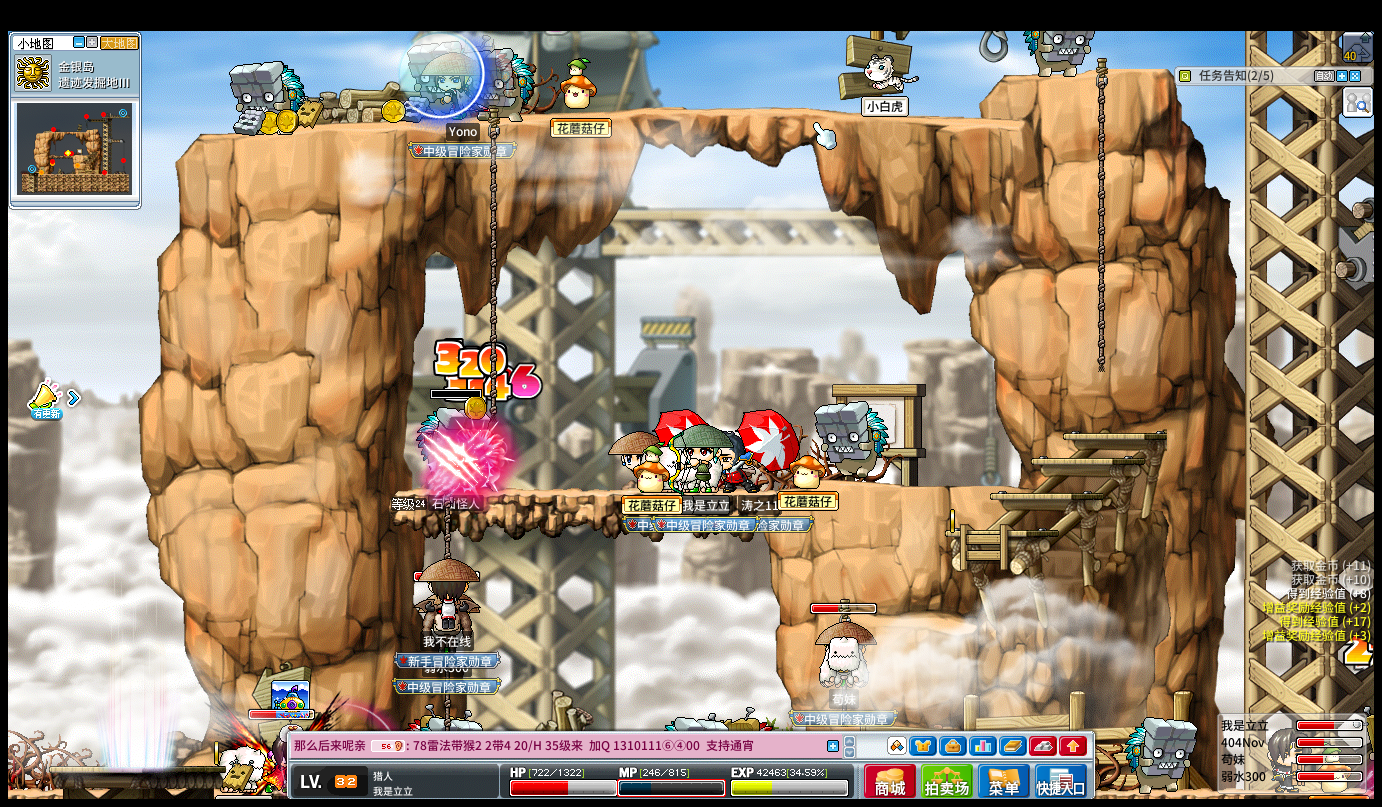floor: (197, 105, 1031, 137), (394, 489, 628, 499), (999, 67, 1172, 79), (867, 614, 975, 632), (876, 484, 1032, 495), (878, 482, 1027, 492), (1062, 429, 1167, 441), (941, 528, 1059, 537), (1027, 456, 1145, 464), (990, 492, 1102, 500)
monster: (418, 403, 489, 492), (813, 400, 889, 481), (227, 59, 304, 136), (1124, 717, 1198, 792), (490, 44, 535, 119)
rope: (1095, 51, 1107, 374), (487, 108, 498, 425), (440, 491, 453, 559)
